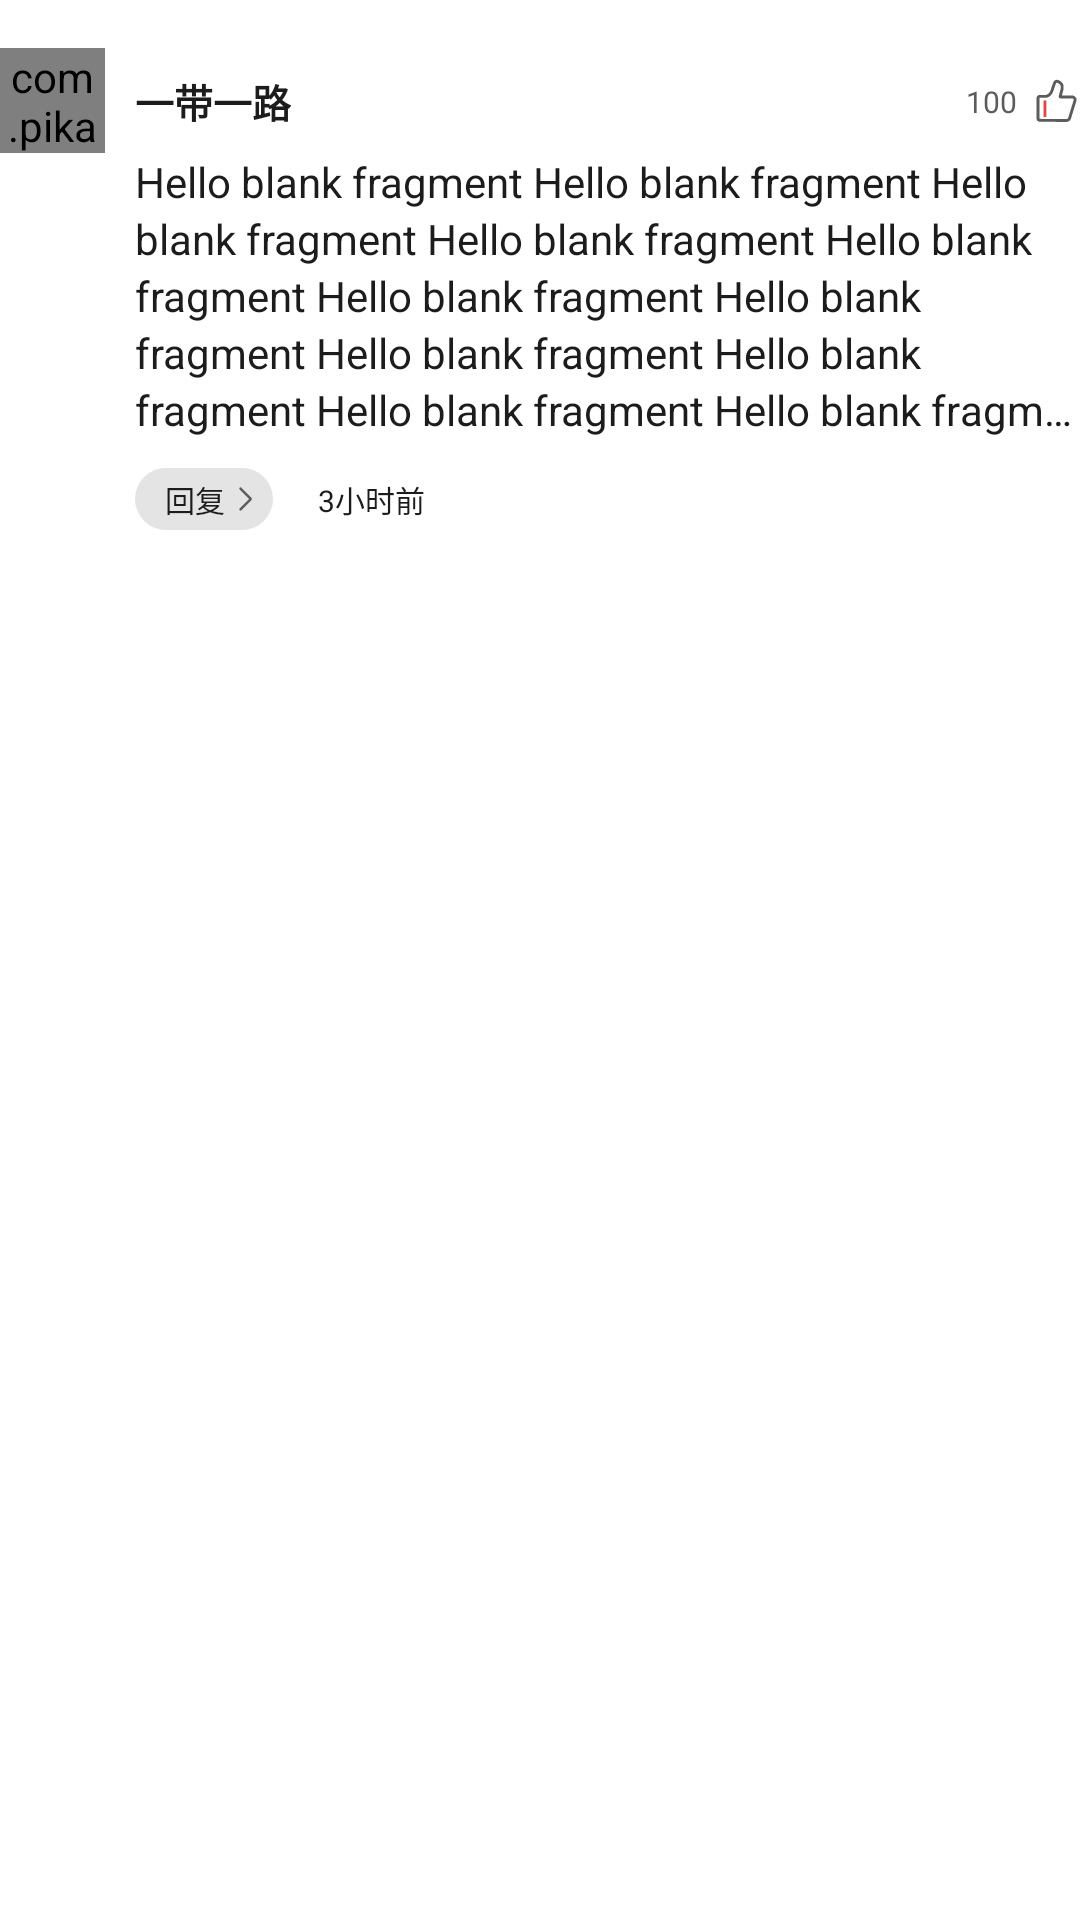

Icon bounding boxes for this 1080 x 1920 phone screenshot, format (x1, y1, x2, y2):
item good: (1036, 79, 1077, 122)
